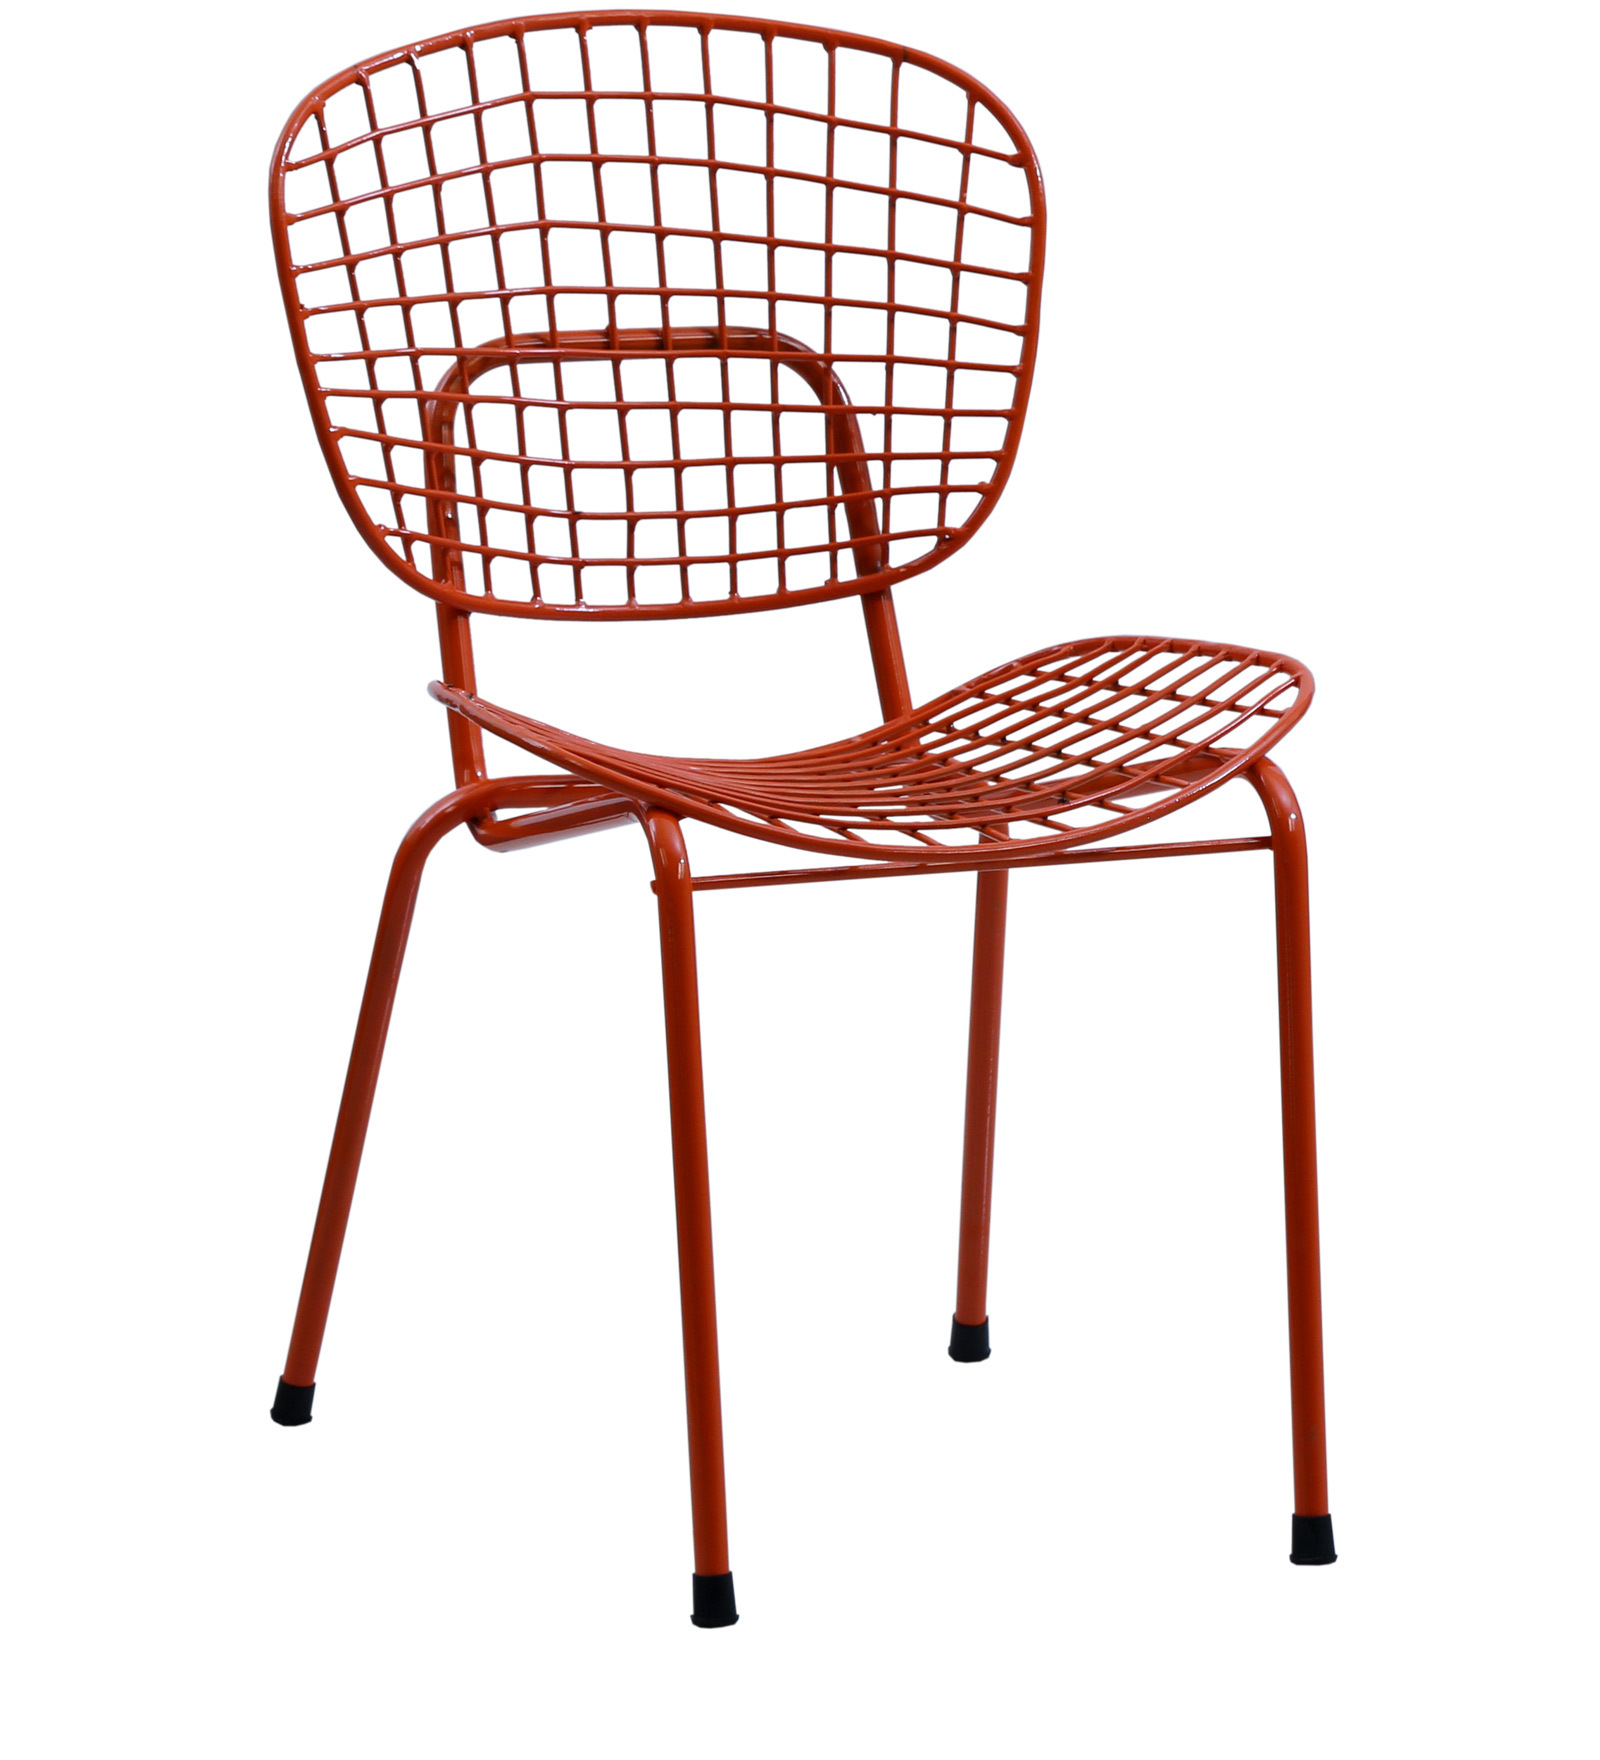Annette Metal Chair in Orange Color by Bohemiana: (198, 12, 1427, 1631)
